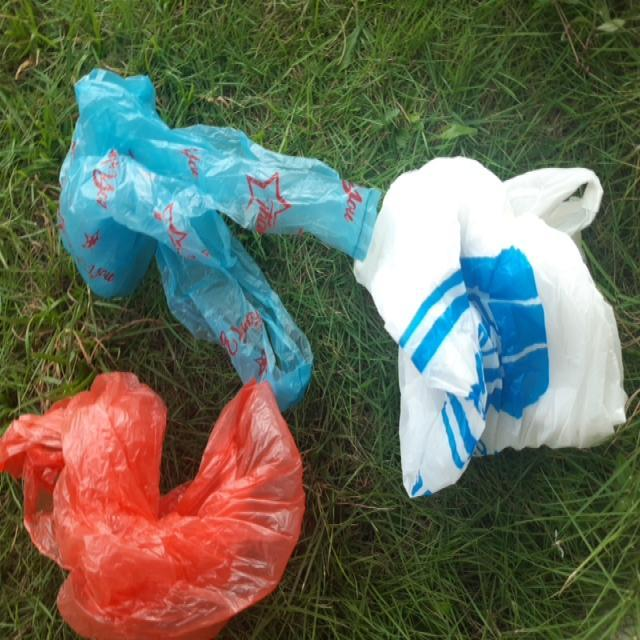Single-layer Plastic: (60, 69, 381, 408), (355, 158, 625, 496), (0, 374, 305, 640)
